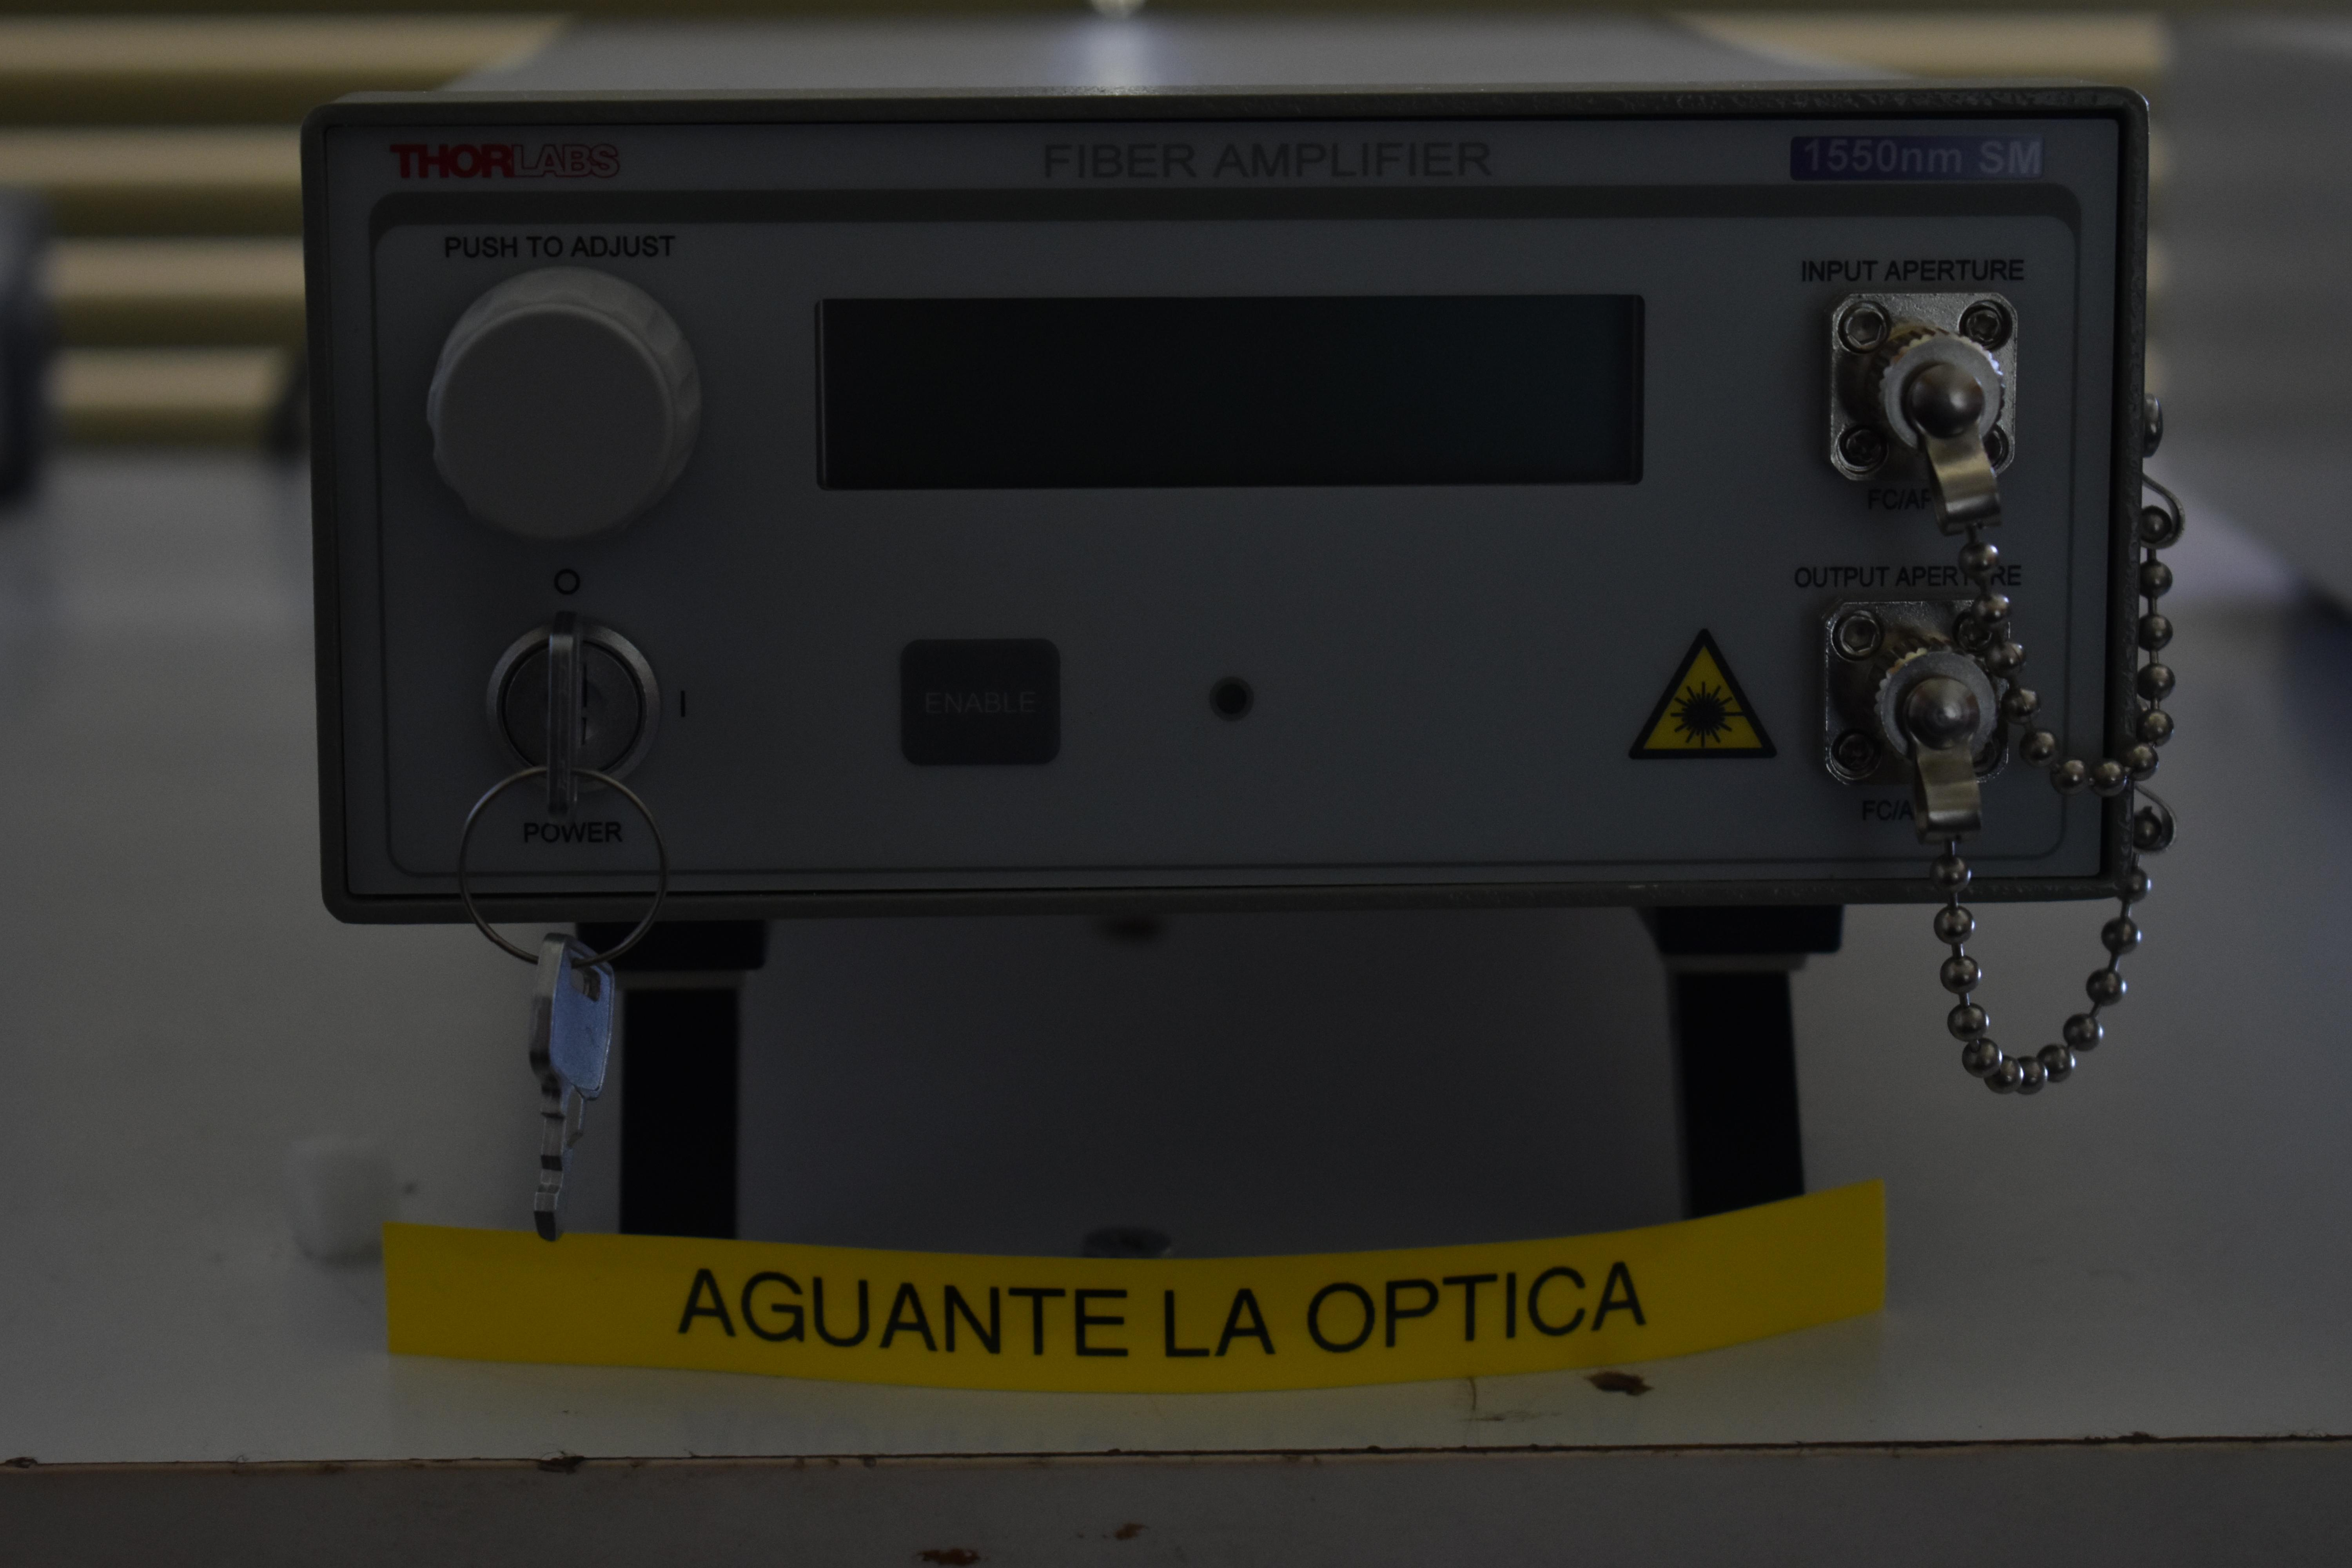laser: (316, 4, 2191, 1245)
